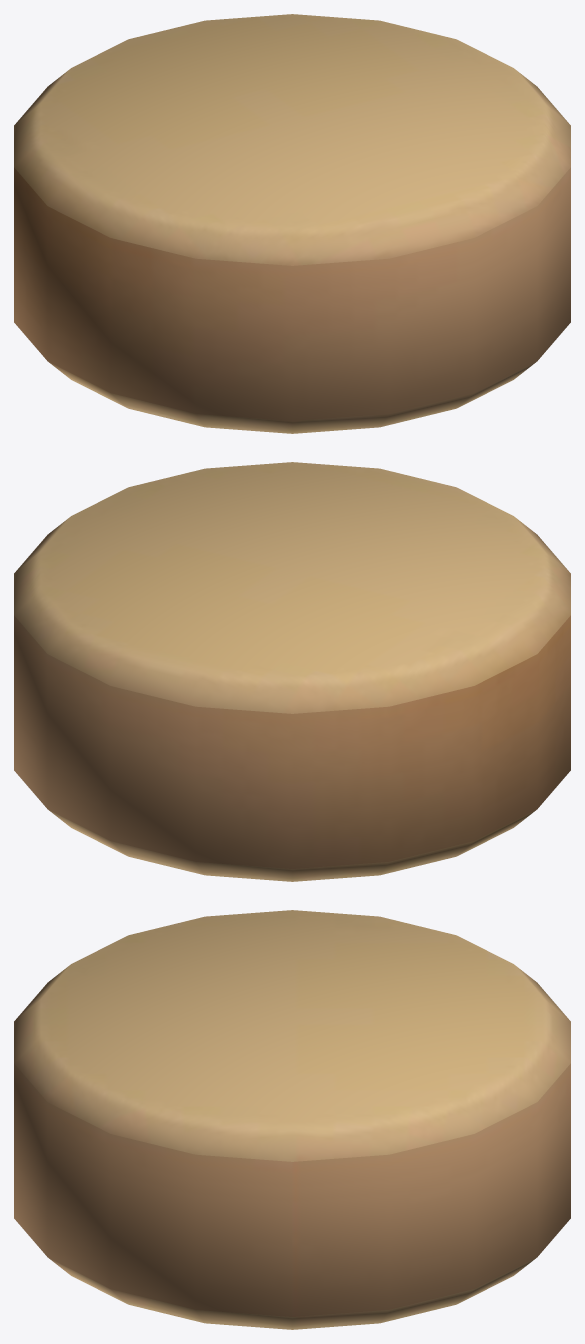
Rendered from DE_House_Mod_Part_97.fbx.
3 renders of one model, top to bottom at view 1: azimuth 30°, elevation 25°; view 2: azimuth 150°, elevation 25°; view 3: azimuth 270°, elevation 25°, orthographic.
Visible parts, largest first — view 1: DE_House_Mod_Part_97; view 2: DE_House_Mod_Part_97; view 3: DE_House_Mod_Part_97.
Part boxes in pixels (x1=…): DE_House_Mod_Part_97: x1=14, y1=14, x2=570, y2=433; DE_House_Mod_Part_97: x1=14, y1=462, x2=570, y2=881; DE_House_Mod_Part_97: x1=14, y1=910, x2=570, y2=1329.
Size of the model in its own units: 1.62 by 0.6441 by 1.59.
